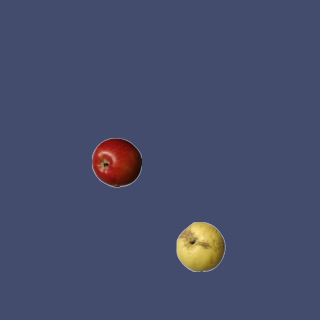Apple Braeburn: (91, 137, 141, 187)
Apple Golden 1: (175, 221, 225, 271)
